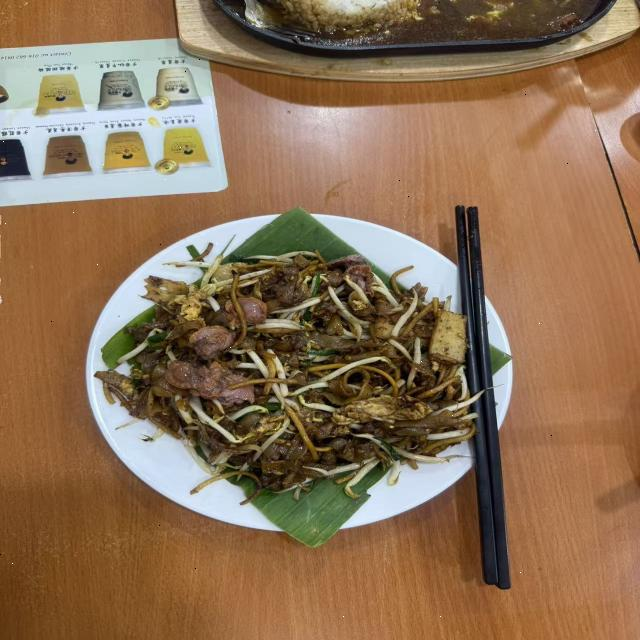Char Kway Teow: (114, 202, 522, 528)
